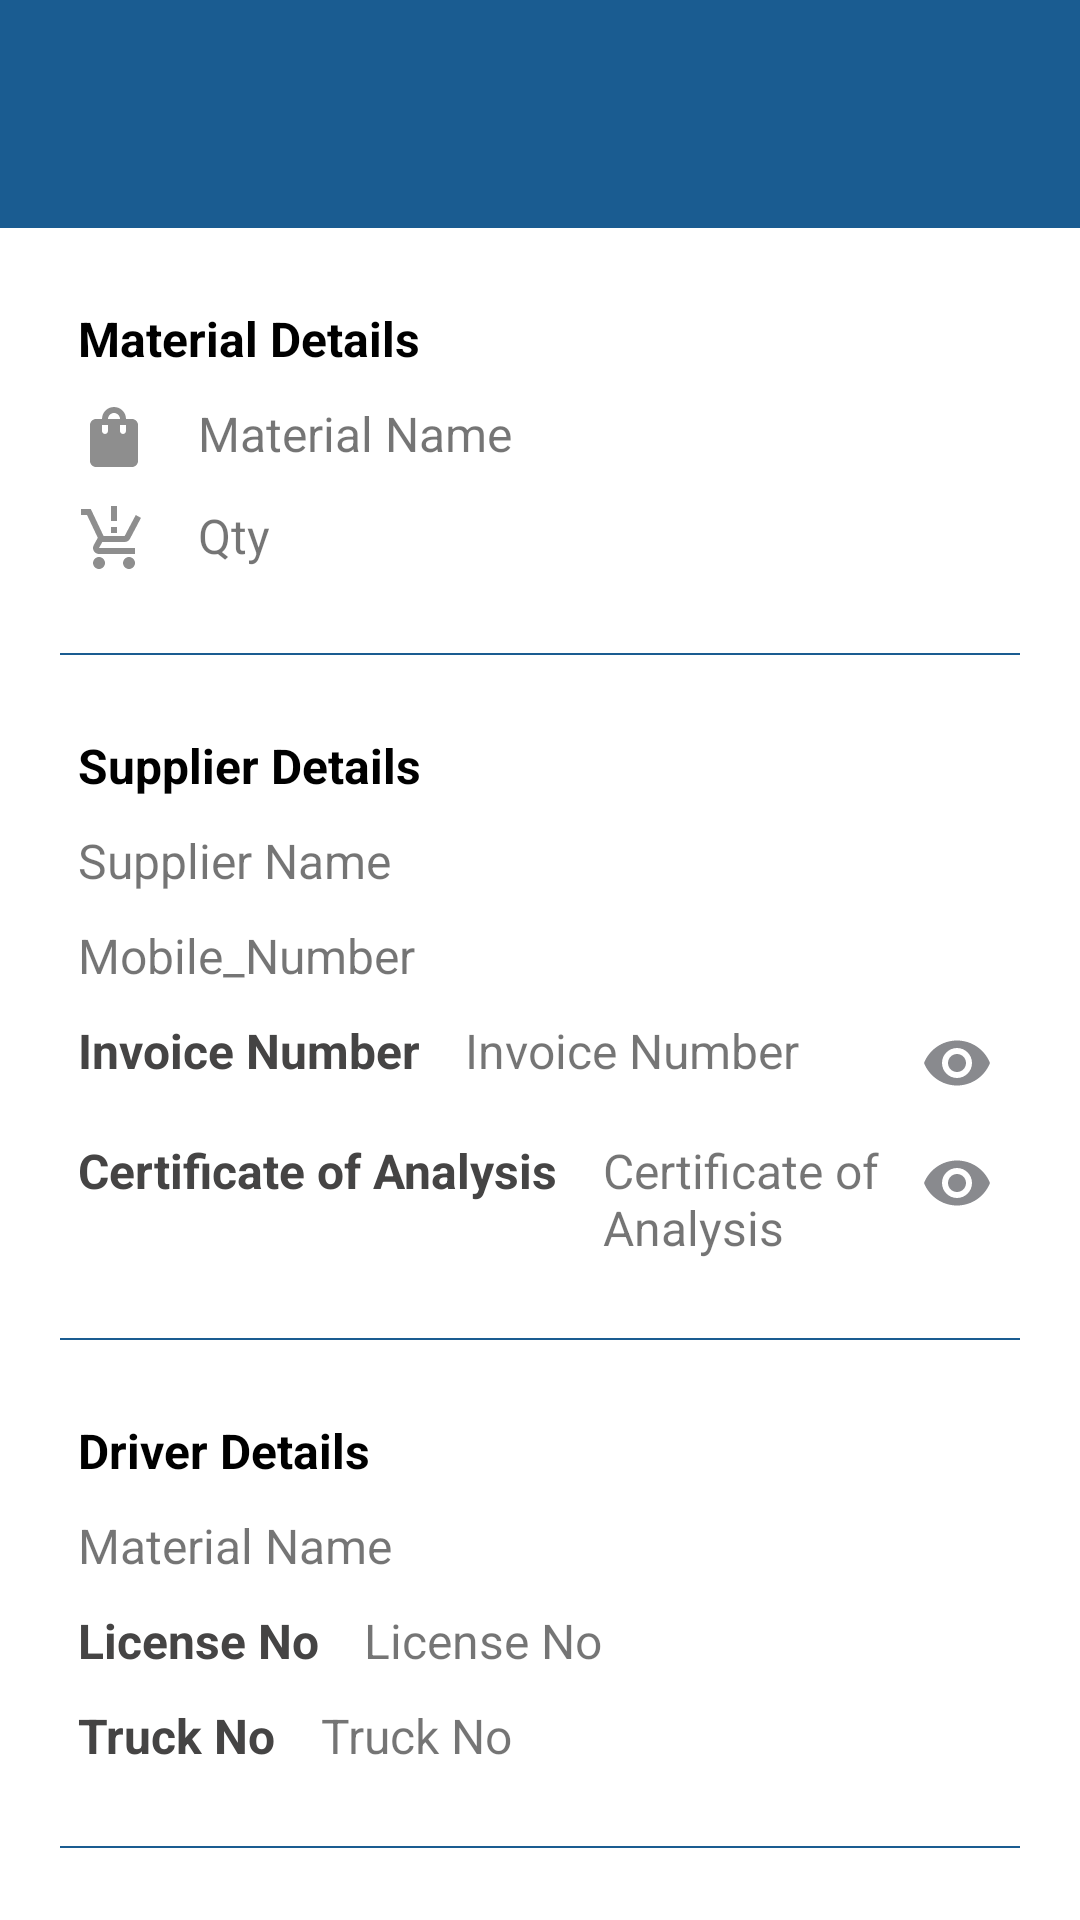

Where icons sit on this 1080 × 1920 app screen, as (x1, y1, x2, y2):
remove eye: (924, 1040, 990, 1086), (924, 1160, 990, 1206)
